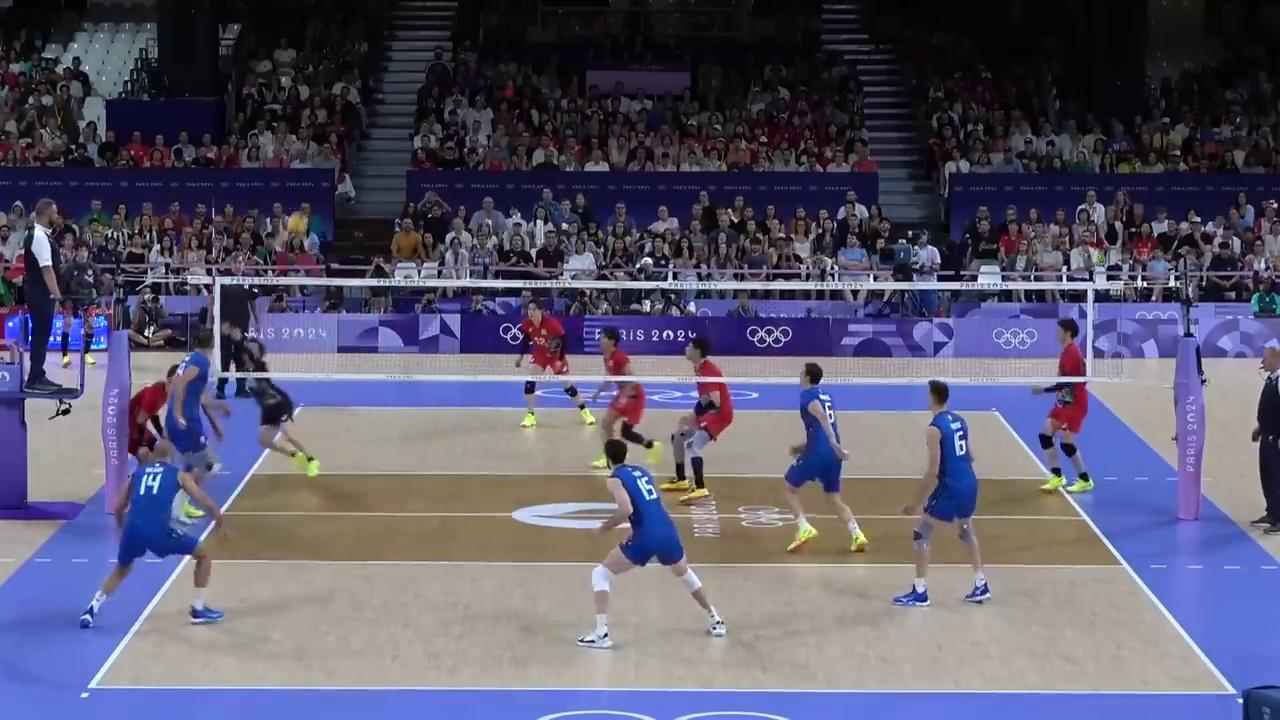ball: (287, 212, 308, 234)
